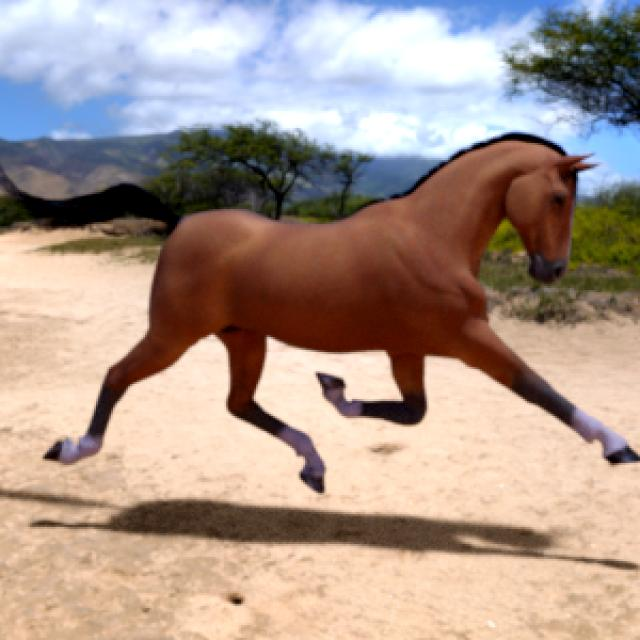horse: (0, 135, 640, 491)
